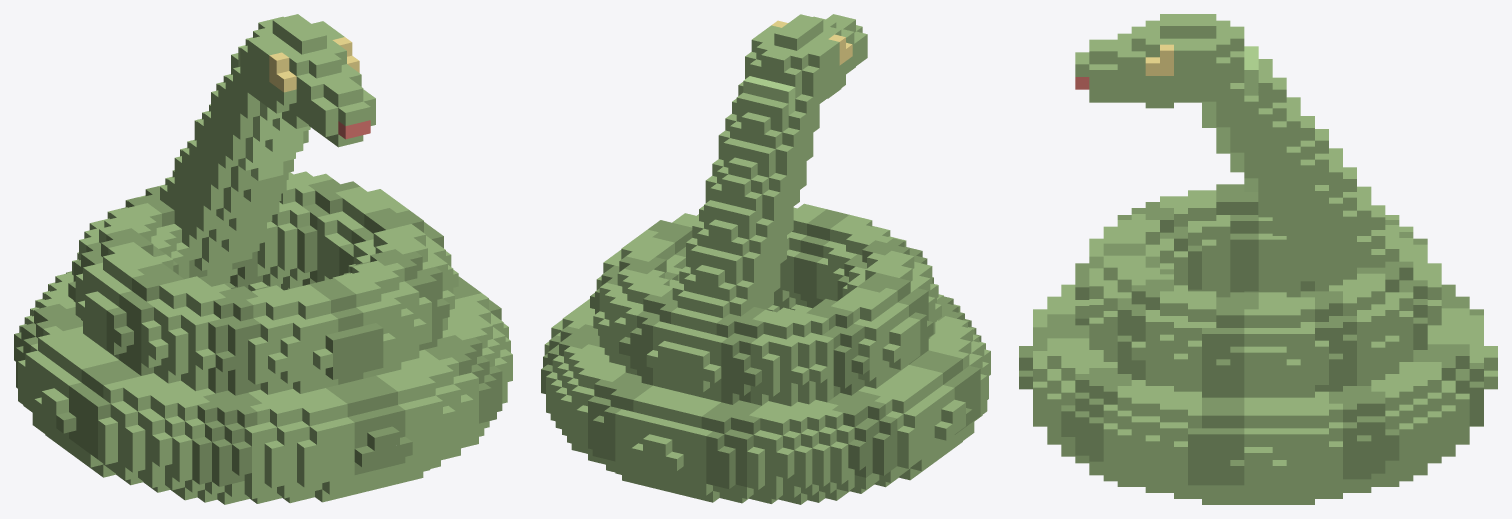
File: snake.glb
3 renders of one model, left to right at view 1: azimuth 30°, elevation 25°; view 2: azimuth 150°, elevation 25°; view 3: azimuth 270°, elevation 25°, orthographic. The views are drawn at different scales.
Parts seen in each view (by area): view 1: item; view 2: item; view 3: item.
Part boxes in pixels (x1=…): item: x1=14, y1=14, x2=512, y2=504; item: x1=541, y1=14, x2=990, y2=504; item: x1=1019, y1=14, x2=1497, y2=504.
Bounding box in the file's own units: 34 × 31 × 34.
